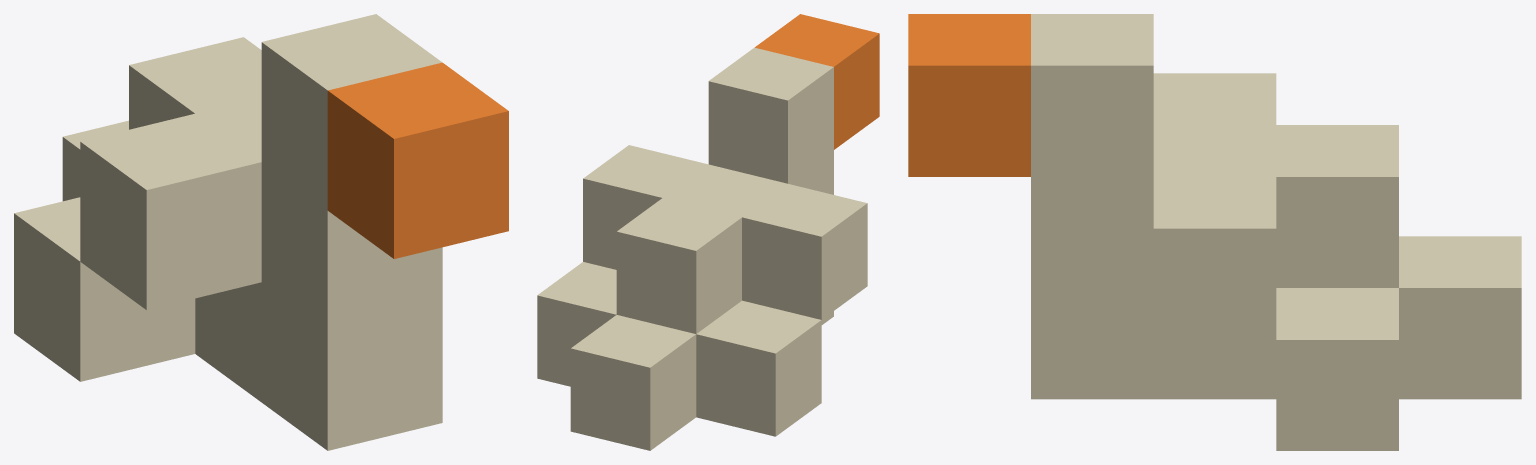
File: 3D Voxel Park-92.obj
3 views of the same model, side by side, from view 1: azimuth 30°, elevation 25°; view 2: azimuth 150°, elevation 25°; view 3: azimuth 270°, elevation 25° (orthographic). The views are drawn at different scales.
Bounding box in the file's own units: 0.3 × 0.3 × 0.5.
Materials: 1 (1 with a texture image).
